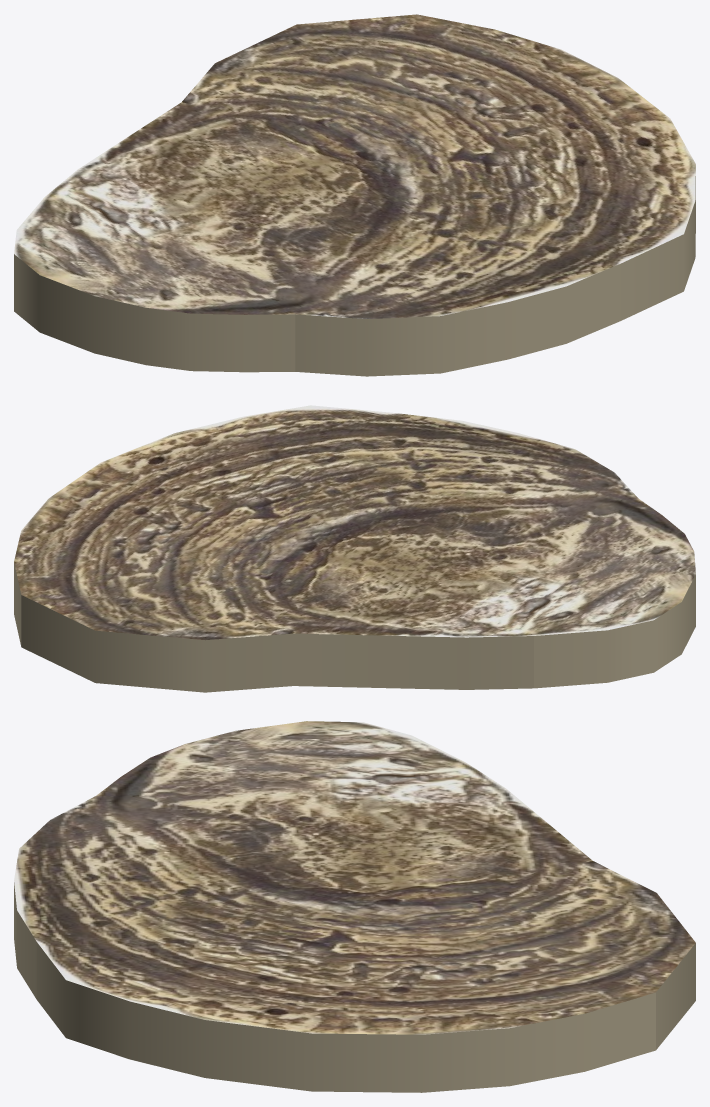
File: oyster3.fbx
3 views of the same model, one above another, from view 1: azimuth 30°, elevation 25°; view 2: azimuth 150°, elevation 25°; view 3: azimuth 270°, elevation 25° (orthographic). The views are drawn at different scales.
Visible parts, largest first — view 1: pCube1; view 2: pCube1; view 3: pCube1.
Boxes of the visible parts, x1=… form: pCube1: x1=14, y1=14, x2=695, y2=376; pCube1: x1=14, y1=405, x2=695, y2=692; pCube1: x1=14, y1=721, x2=695, y2=1092.
Bounding box in the file's own units: 0.7497 × 0.0647 × 0.6889.
2 materials, 1 textured.
